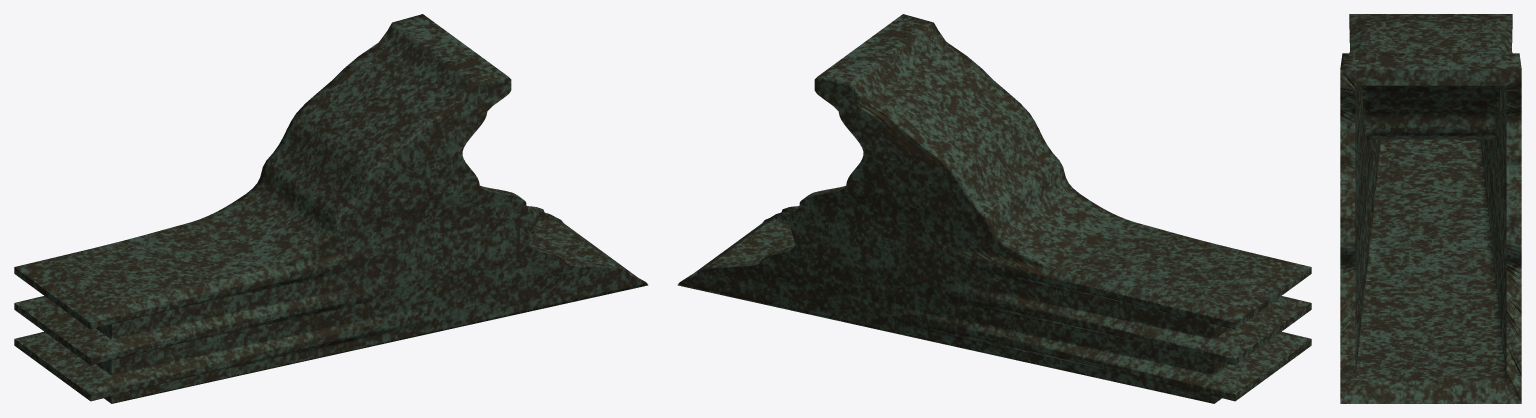
File: NEW693_BronzeRam_LOD0.fbx
3 views of the same model, side by side, from view 1: azimuth 30°, elevation 25°; view 2: azimuth 150°, elevation 25°; view 3: azimuth 270°, elevation 25° (orthographic). The views are drawn at different scales.
Visible parts, largest first — view 1: Complete_bronze_ram_artifact_open_aft_socket; view 2: Complete_bronze_ram_artifact_open_aft_socket; view 3: Complete_bronze_ram_artifact_open_aft_socket.
Part boxes in pixels (x1,y1,x2,y2): Complete_bronze_ram_artifact_open_aft_socket: (14, 14, 648, 403); Complete_bronze_ram_artifact_open_aft_socket: (677, 14, 1311, 403); Complete_bronze_ram_artifact_open_aft_socket: (1340, 14, 1521, 403).
Size of the model in its own units: 2.26 by 0.95 by 0.6.
1 material, 1 textured.
